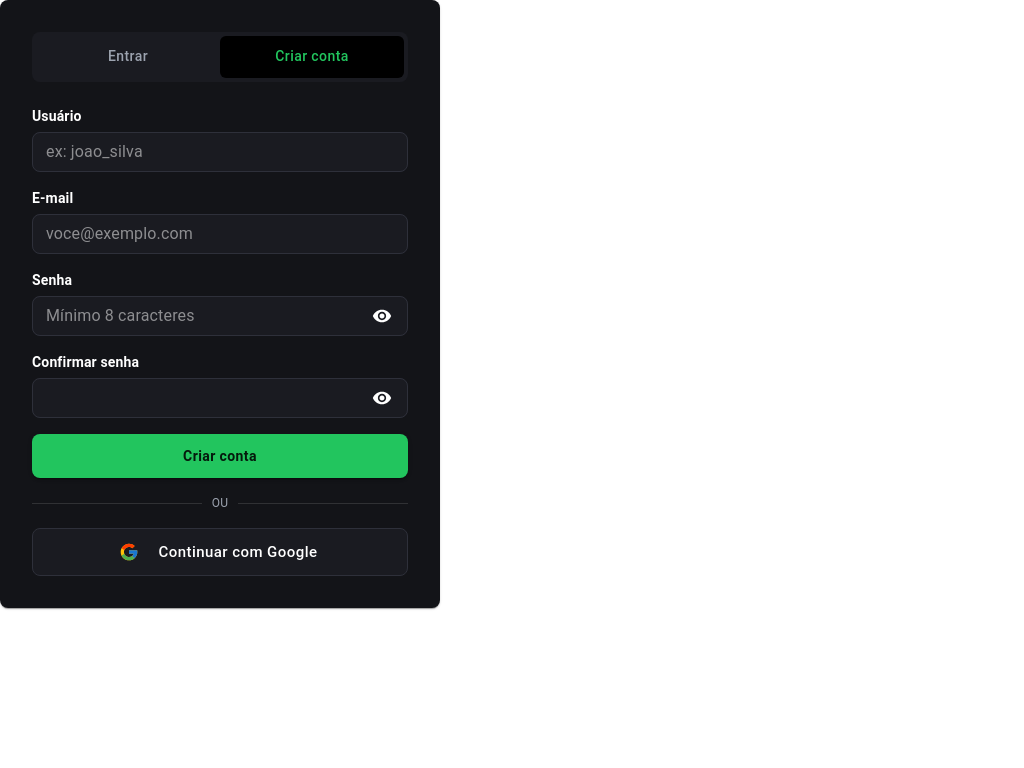
it: closes error modal and stays on signup when X is clicked
Type "joao_silva" into the field with placeholder "ex: joao_silva" at (220, 152), box [32,132,408,172]
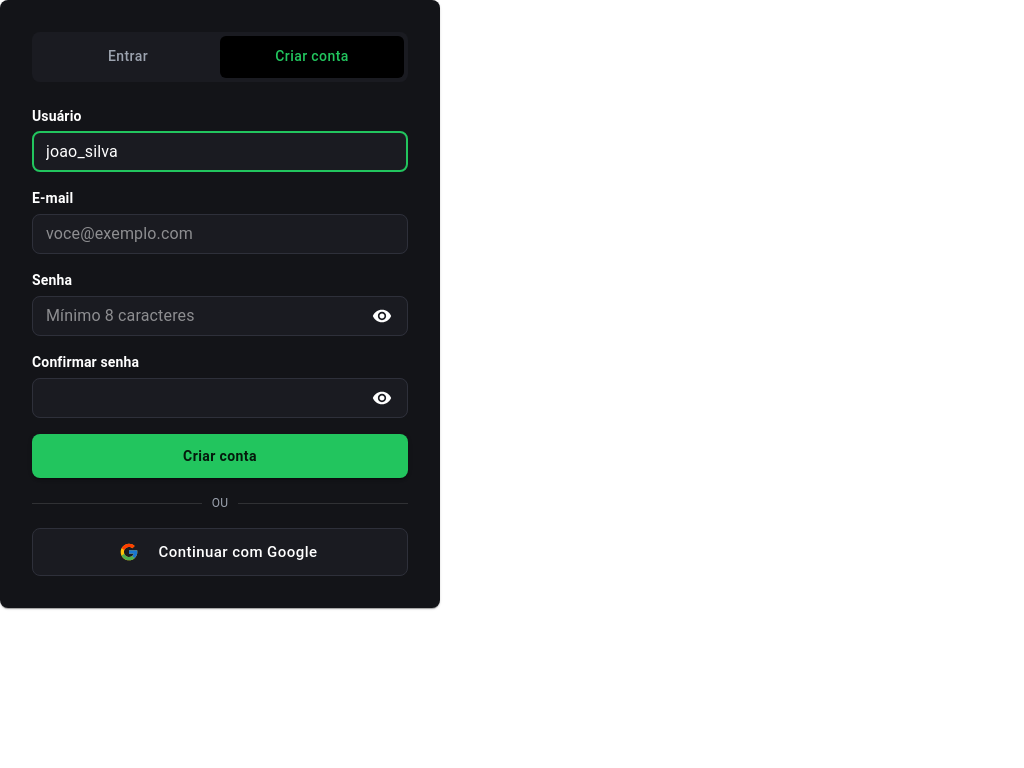
Type "joao@test.com" into the field with placeholder "voce@exemplo.com" at (220, 234), box [32,214,408,254]
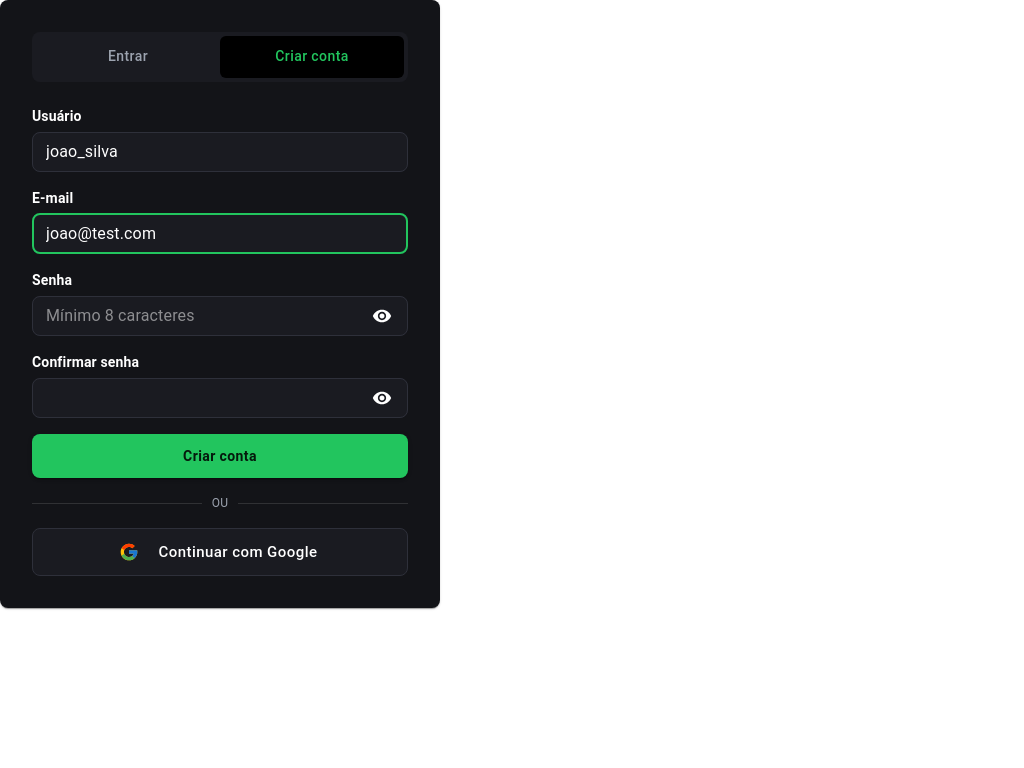
Type "Senha@123" into the password field with placeholder "Mínimo 8 caracteres" at (196, 316), box [32,296,359,336]
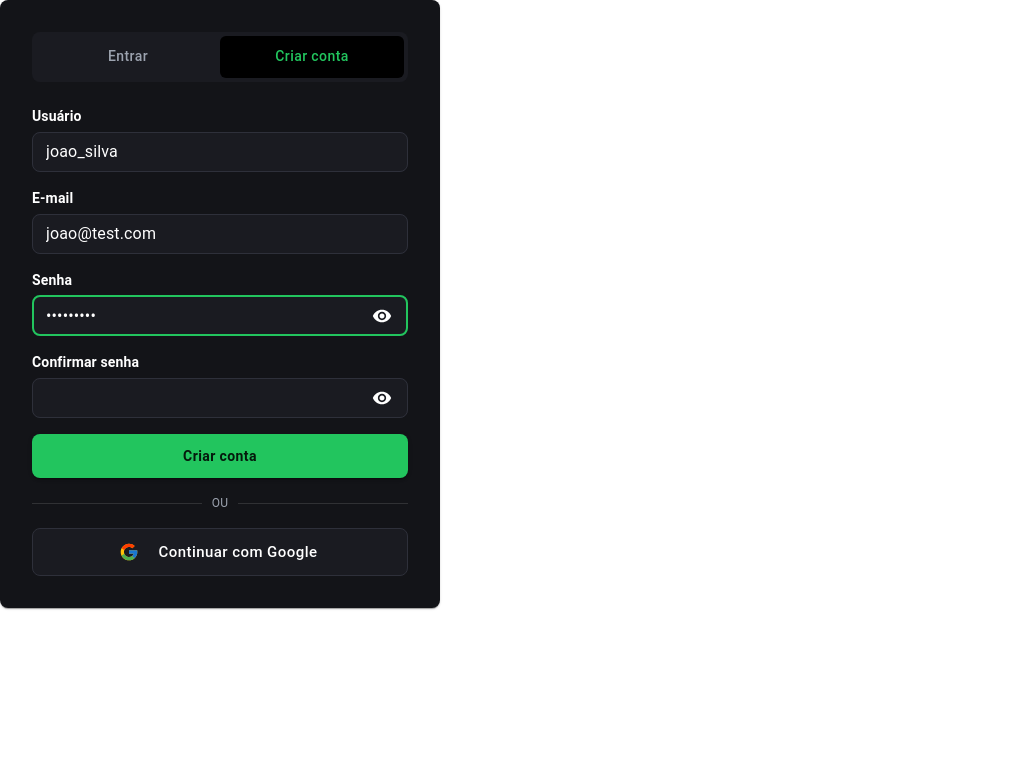
Type "Senha@123" into the password field named "confirmPassword" below "Confirmar senha" at (196, 398), box [32,378,359,418]
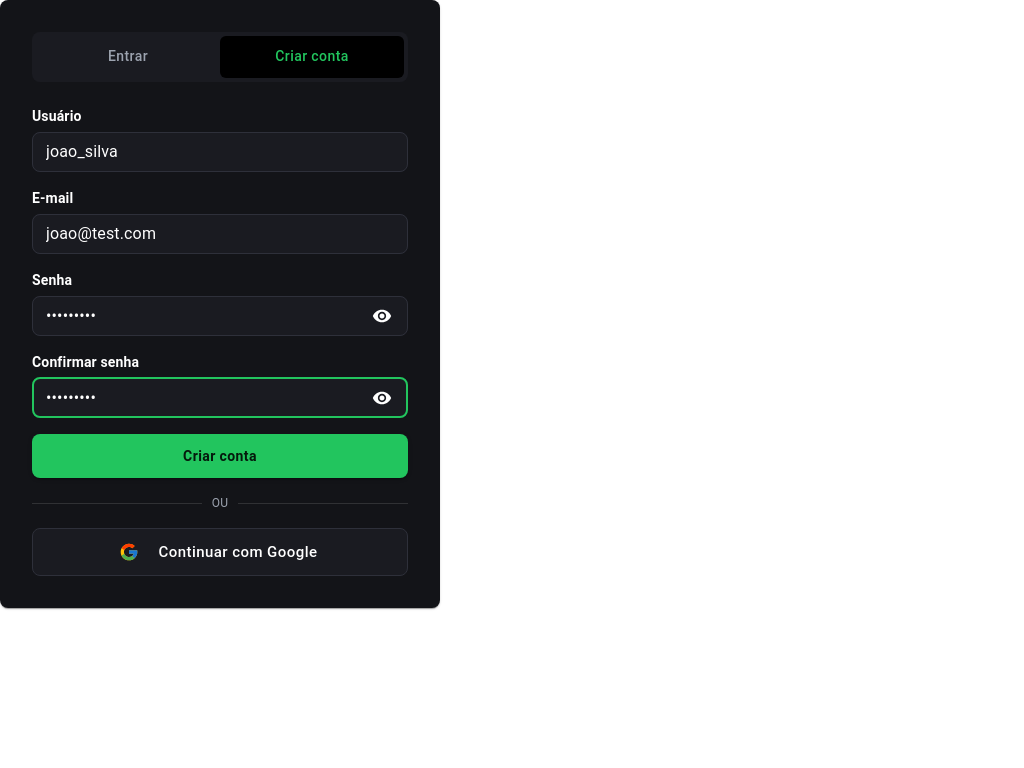
Click the button "Criar conta" at (220, 456), box [32,434,408,478]
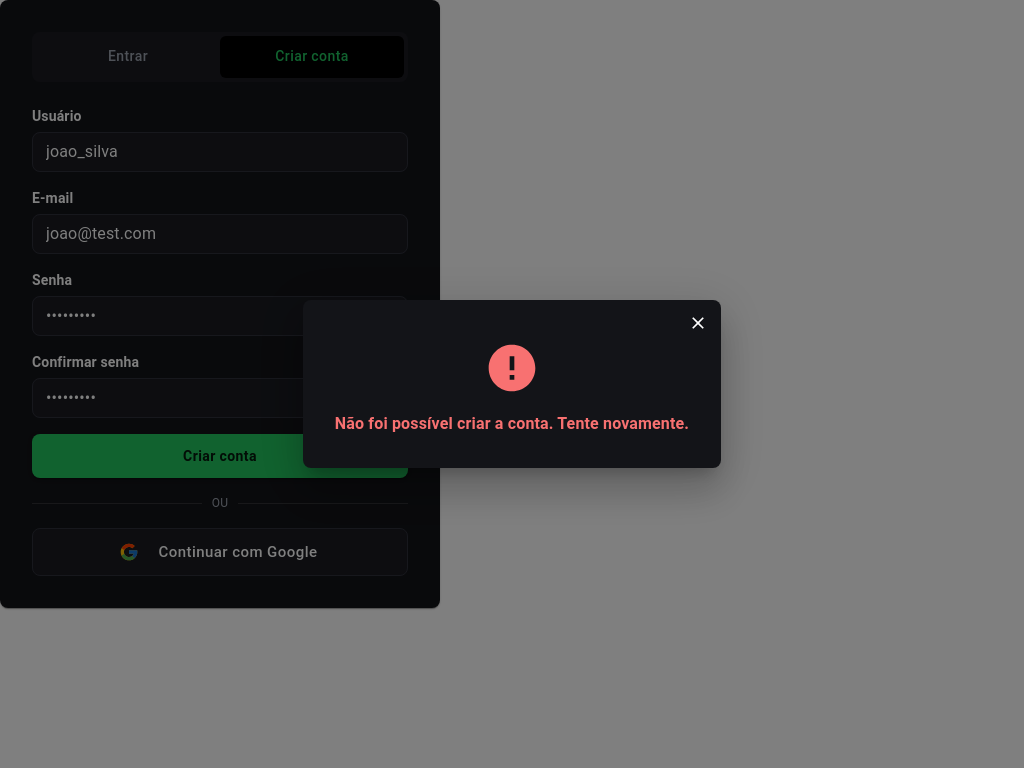
Expected: the text "Não foi possível criar a conta. Tente novamente." is shown, [335,412,689,436]
Click the button named "Fechar modal" at (698, 323), box [683,308,713,338]
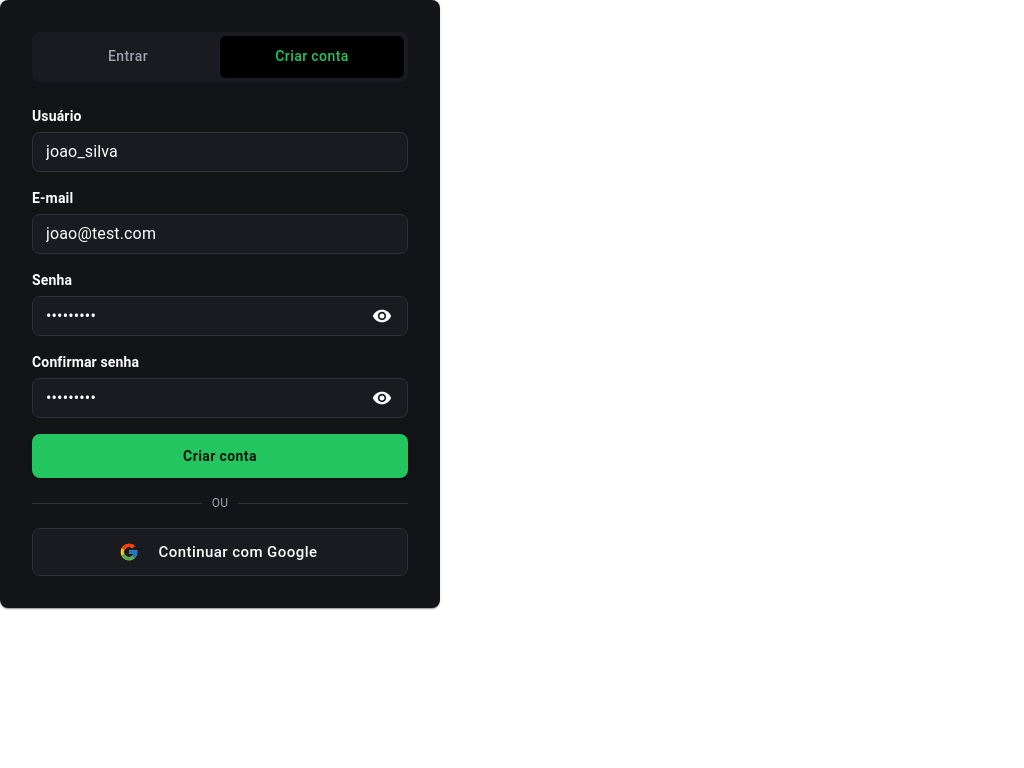
Expected: the text "Não foi possível criar a conta. Tente novamente." is gone
